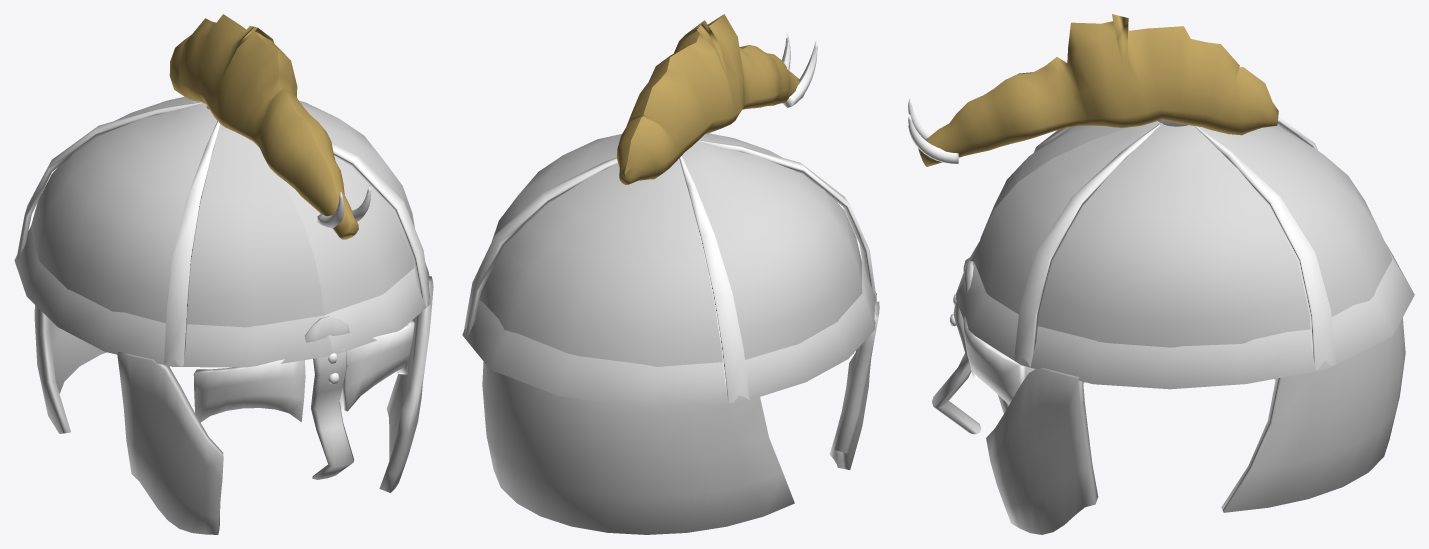
File: helm-berserker-boar.glb
3 views of the same model, side by side, from view 1: azimuth 30°, elevation 25°; view 2: azimuth 150°, elevation 25°; view 3: azimuth 270°, elevation 25° (orthographic). The views are drawn at different scales.
Visible parts, largest first — view 1: helm-berserker-boar; view 2: helm-berserker-boar; view 3: helm-berserker-boar.
Boxes of the visible parts, x1=… form: helm-berserker-boar: x1=14, y1=14, x2=433, y2=534; helm-berserker-boar: x1=462, y1=14, x2=879, y2=534; helm-berserker-boar: x1=908, y1=14, x2=1414, y2=534.
Bounding box in the file's own units: 0.2554 × 0.3197 × 0.314.
